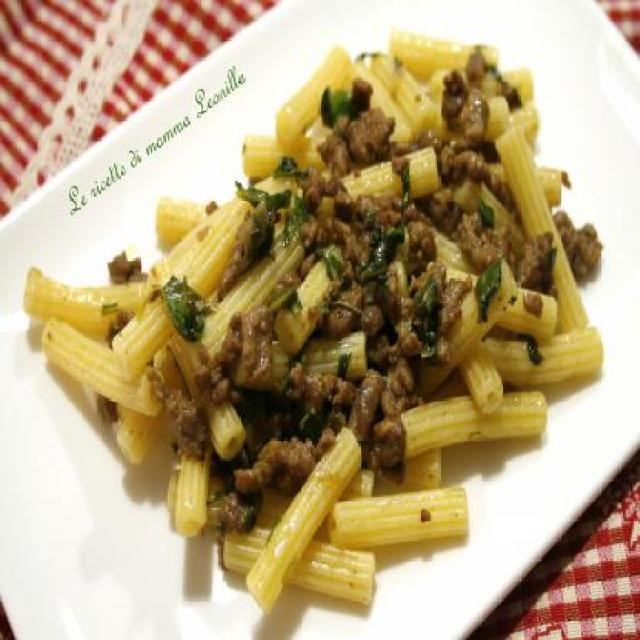Pasta al ragu: (83, 29, 608, 580)
